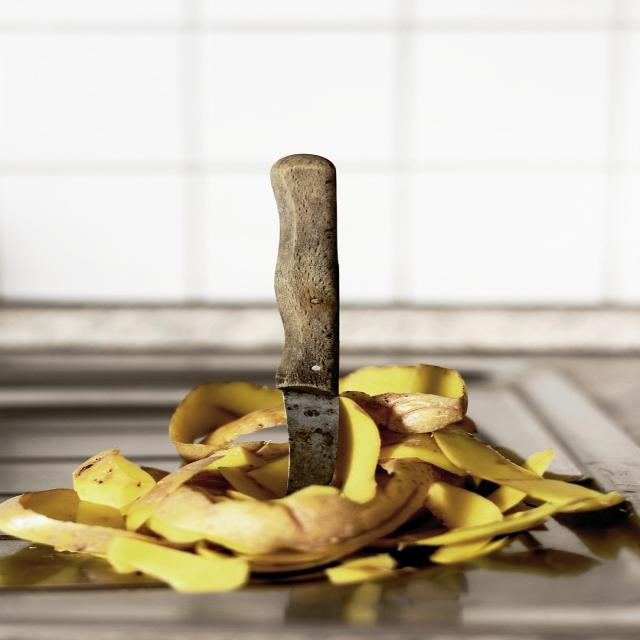Knife: (272, 155, 338, 492)
